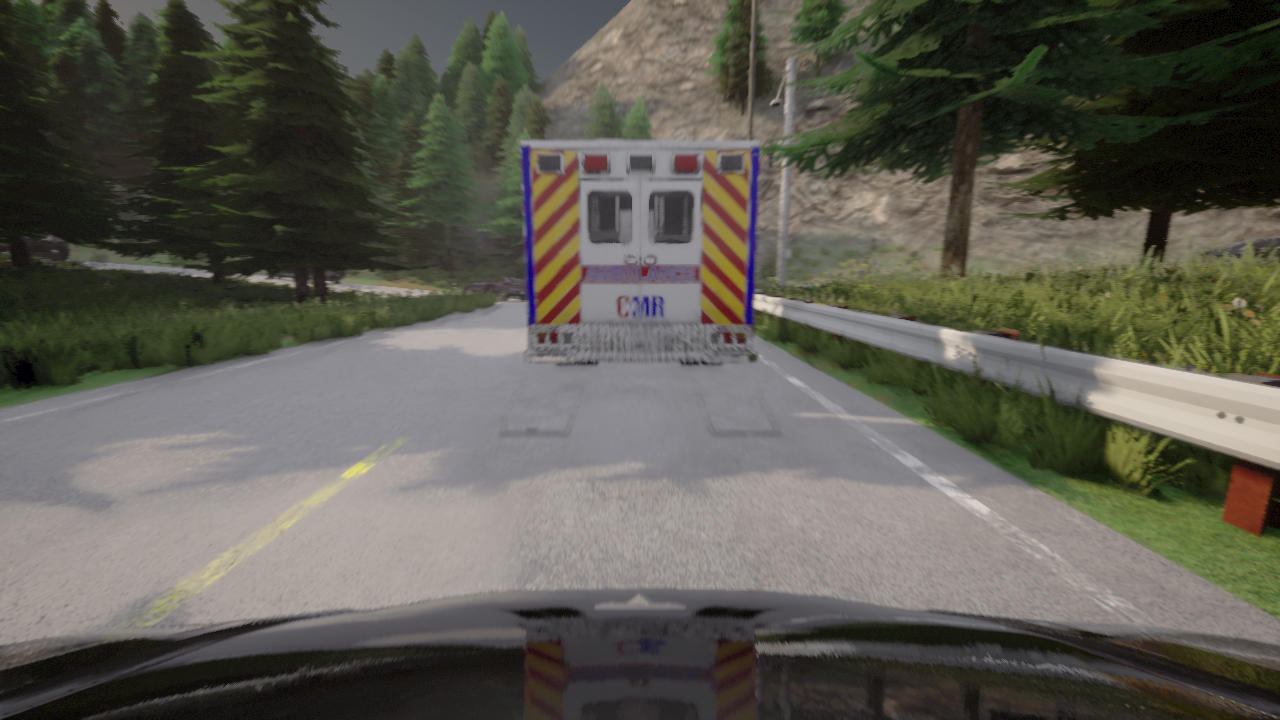cyclist: (0, 588, 1279, 719), (520, 140, 760, 366), (1195, 236, 1279, 261), (462, 275, 526, 301), (267, 266, 345, 283)
